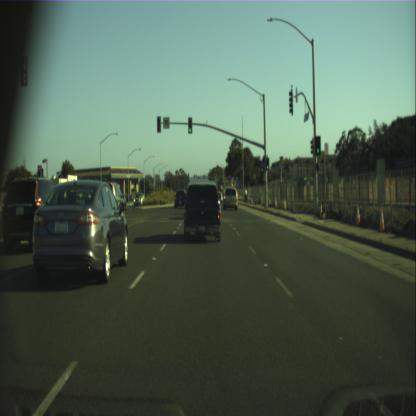Green: (314, 135, 320, 154), (188, 116, 192, 133), (266, 158, 269, 170)
RedLeft: (156, 116, 161, 132)
